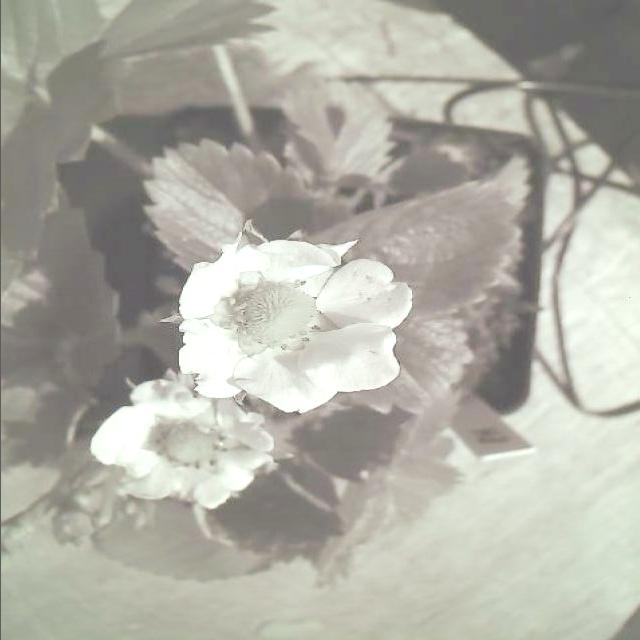flower: (169, 222, 414, 425), (59, 381, 274, 526)
